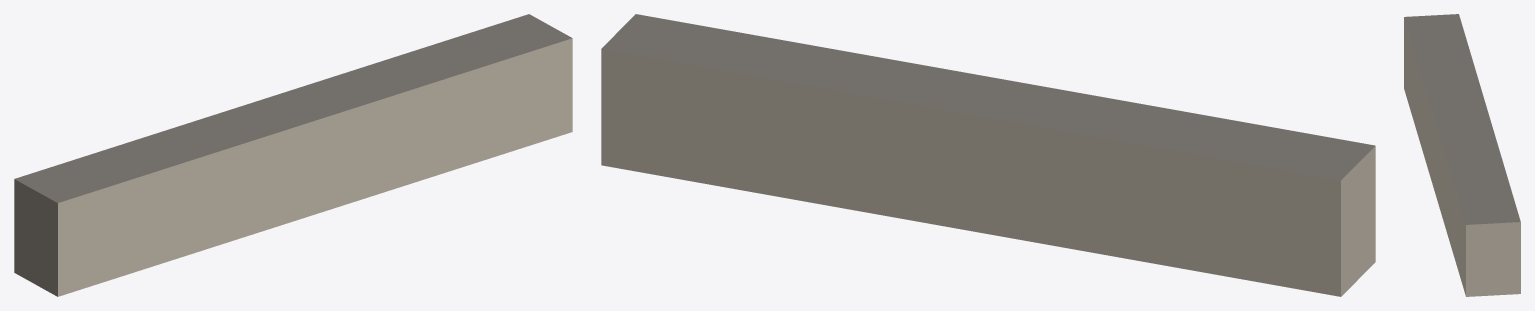
The picture shows the model from 3 angles, left to right: view 1: azimuth 30°, elevation 25°; view 2: azimuth 150°, elevation 25°; view 3: azimuth 270°, elevation 25°; orthographic projection. The views are drawn at different scales.
Parts seen in each view (by area): view 1: HP-w1233759516; view 2: HP-w1233759516; view 3: HP-w1233759516.
Part boxes in pixels (<box>): HP-w1233759516: <box>14,14,572,296</box>; HP-w1233759516: <box>601,14,1375,296</box>; HP-w1233759516: <box>1404,14,1520,296</box>.
Bounding box in the file's own units: 113 × 18 × 26.45.
